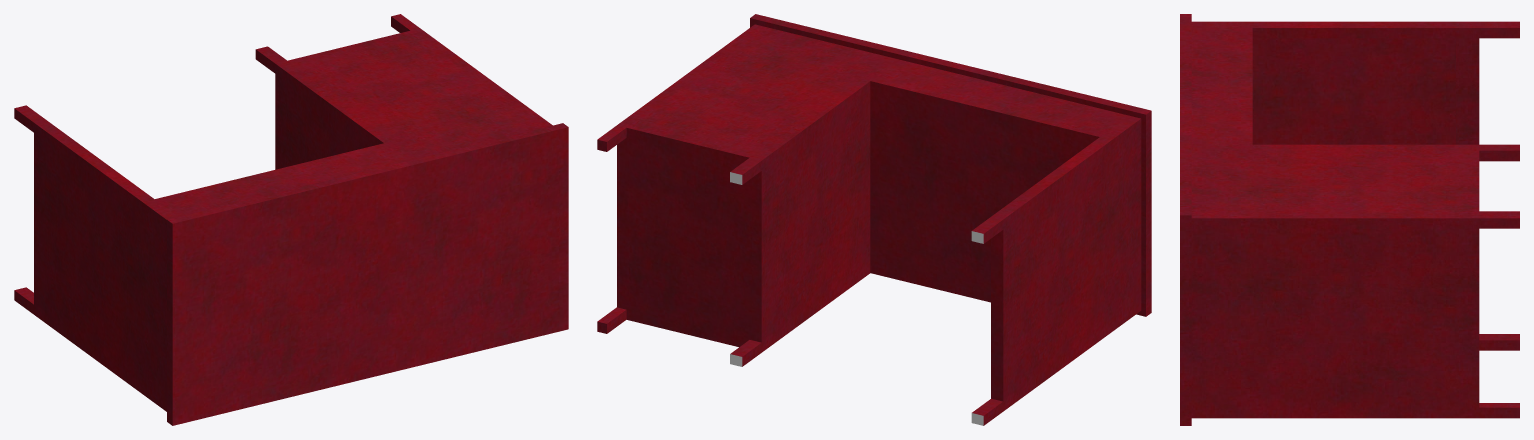
3 renders of one model, left to right at view 1: azimuth 30°, elevation 25°; view 2: azimuth 150°, elevation 25°; view 3: azimuth 270°, elevation 25°, orthographic. The views are drawn at different scales.
Visible parts, largest first — view 1: desk; view 2: desk; view 3: desk.
Boxes of the visible parts, x1,y1,x2,y2 form: desk: [14, 14, 568, 425]; desk: [597, 14, 1151, 425]; desk: [1180, 14, 1519, 425].
Bounding box in the file's own units: 41 × 20.25 × 29.25.
Materials: 22 (10 with a texture image).
